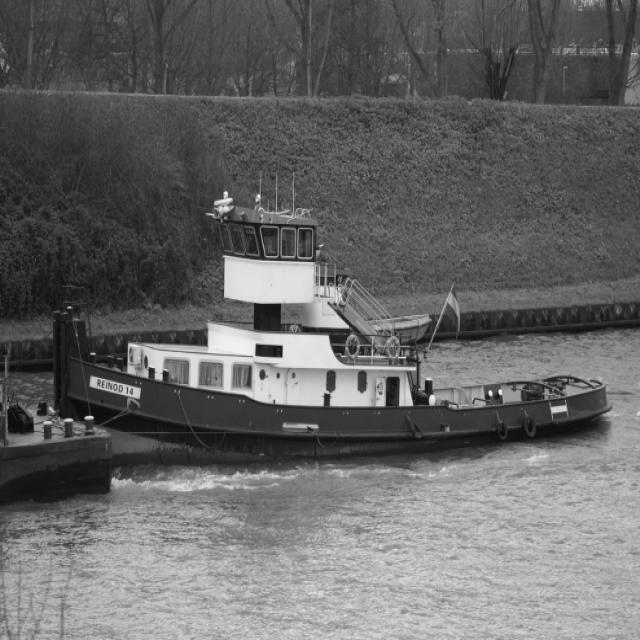tugboat: (48, 184, 618, 476)
